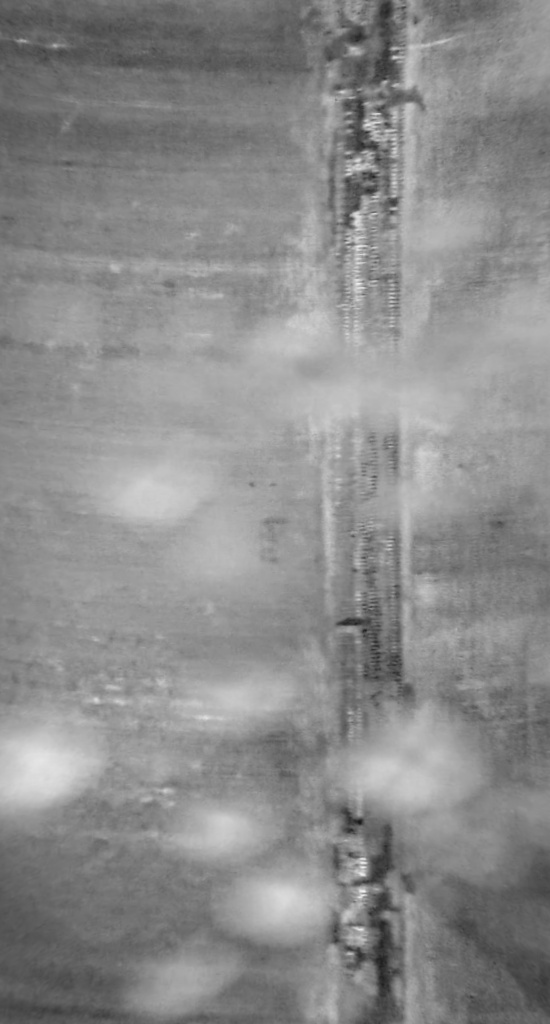splice: (318, 1, 414, 1022)
